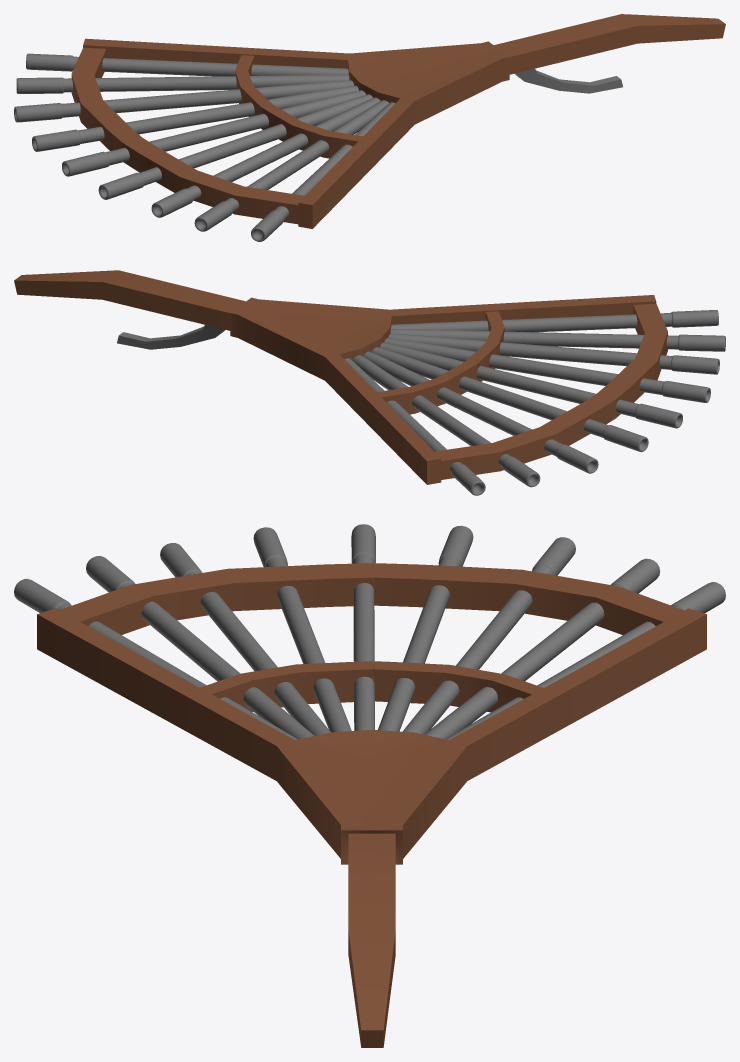
The model's file is escopeta.fbx.
The picture shows the model from 3 angles, top to bottom: view 1: azimuth 30°, elevation 25°; view 2: azimuth 150°, elevation 25°; view 3: azimuth 270°, elevation 25°; orthographic projection. The views are drawn at different scales.
Parts seen in each view (by area): view 1: Cube.011, Cube, Cube.002, Cube.012; view 2: Cube.011, Cube, Cube.002, Cube.012; view 3: Cube, Cube.011, Cube.002.
Part boxes in pixels (x1,y1,x2,y2): Cube.011: [14, 53, 394, 241]; Cube: [83, 14, 725, 228]; Cube.002: [71, 47, 362, 224]; Cube.012: [514, 68, 622, 93]; Cube.011: [344, 310, 725, 495]; Cube: [14, 270, 656, 484]; Cube.002: [376, 303, 667, 479]; Cube.012: [117, 325, 225, 349]; Cube: [37, 608, 706, 1047]; Cube.011: [14, 524, 725, 739]; Cube.002: [59, 563, 684, 712].
Size of the model in its own units: 492 by 775 by 74.66.
